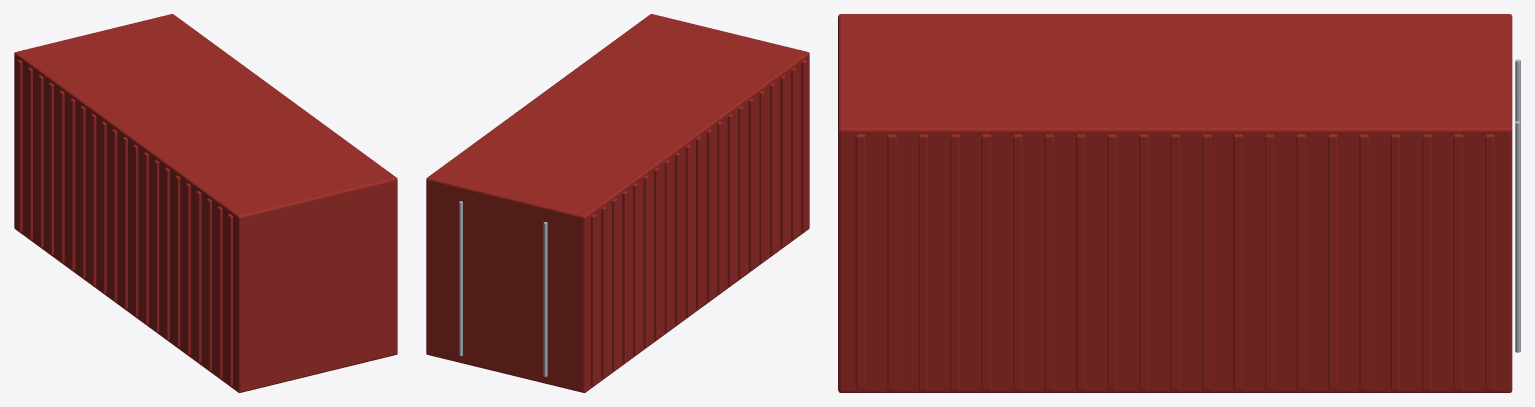
Rendered from Container.fbx.
The picture shows the model from 3 angles, left to right: view 1: azimuth 30°, elevation 25°; view 2: azimuth 150°, elevation 25°; view 3: azimuth 270°, elevation 25°; orthographic projection. The views are drawn at different scales.
Parts seen in each view (by area): view 1: Body.046; view 2: Body.046; view 3: Body.046.
Boxes of the visible parts, x1,y1,x2,y2 form: Body.046: (14, 14, 397, 392); Body.046: (426, 14, 809, 392); Body.046: (838, 14, 1520, 392).
Size of the model in its own units: 2.53 by 2.6 by 6.08.
